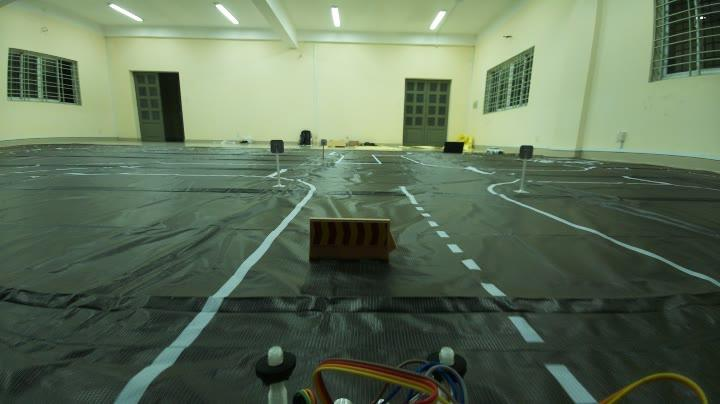roadblock: (304, 210, 402, 279)
